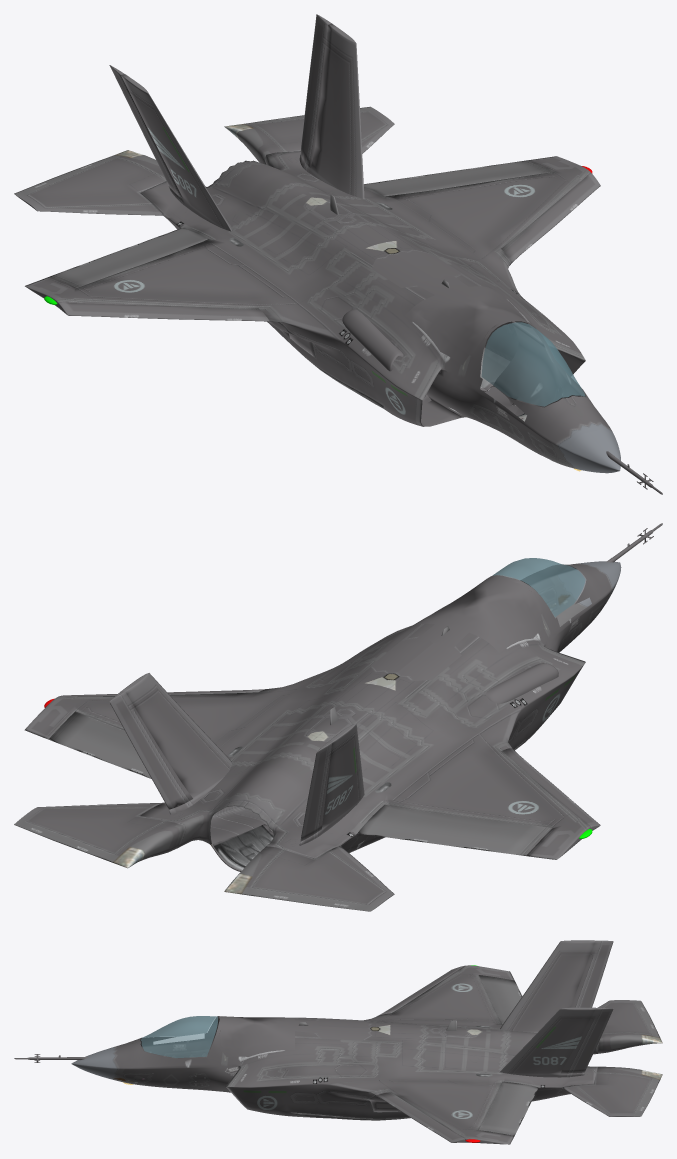
The model's file is f35-lightning.glb.
3 views of the same model, one above another, from view 1: azimuth 30°, elevation 25°; view 2: azimuth 150°, elevation 25°; view 3: azimuth 270°, elevation 25° (orthographic). The views are drawn at different scales.
Visible parts, largest first — view 1: FlightGear F-35B; aligned to game axes; view 2: FlightGear F-35B; aligned to game axes; view 3: FlightGear F-35B; aligned to game axes.
Part boxes in pixels (<box>): FlightGear F-35B; aligned to game axes: <box>14,14,662,494</box>; FlightGear F-35B; aligned to game axes: <box>14,523,662,911</box>; FlightGear F-35B; aligned to game axes: <box>14,940,662,1144</box>.
Size of the model in its own units: 11.05 by 3.66 by 17.15.
5 materials, 1 textured.
